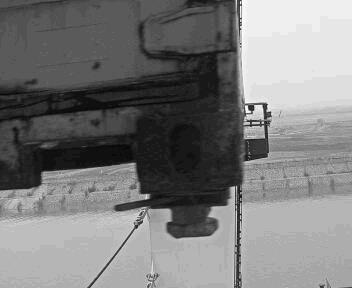twist_lock_1: (154, 179, 255, 246)
